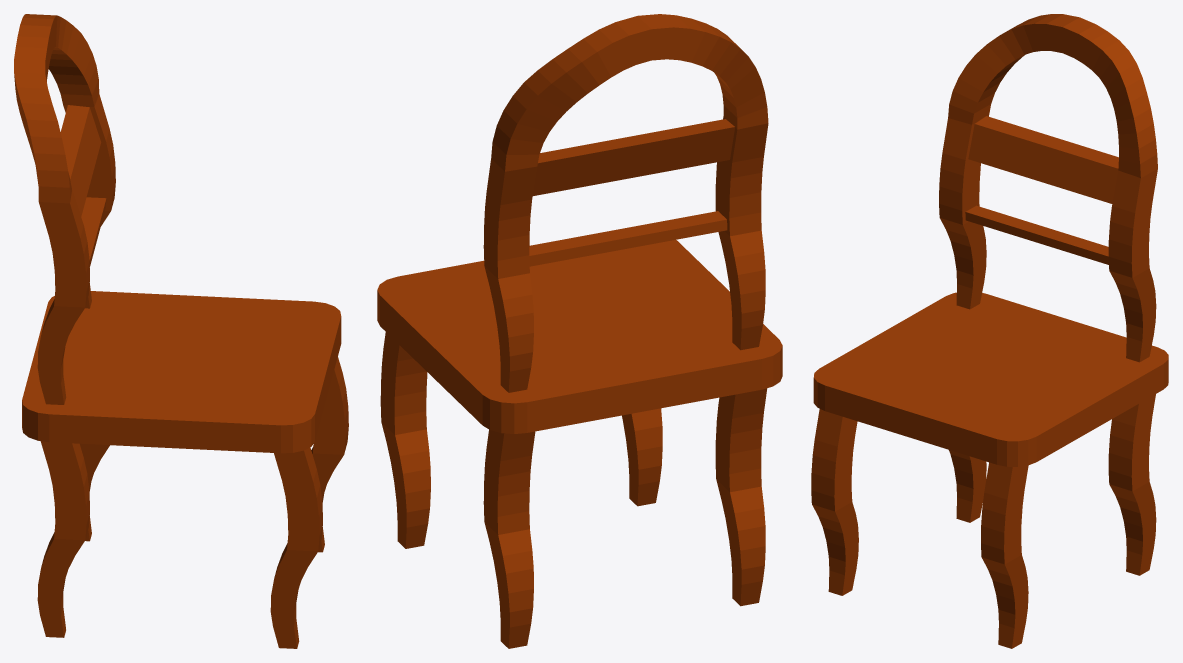
File: Char.gltf
3 renders of one model, left to right at view 1: azimuth 30°, elevation 25°; view 2: azimuth 150°, elevation 25°; view 3: azimuth 270°, elevation 25°, orthographic. The views are drawn at different scales.
Parts seen in each view (by area): view 1: chair.002; view 2: chair.002; view 3: chair.002.
Boxes of the visible parts, x1=… form: chair.002: x1=14, y1=14, x2=348, y2=648; chair.002: x1=377, y1=14, x2=782, y2=648; chair.002: x1=811, y1=14, x2=1168, y2=648.
Bounding box in the file's own units: 2.05 × 3.2 × 2.03.
